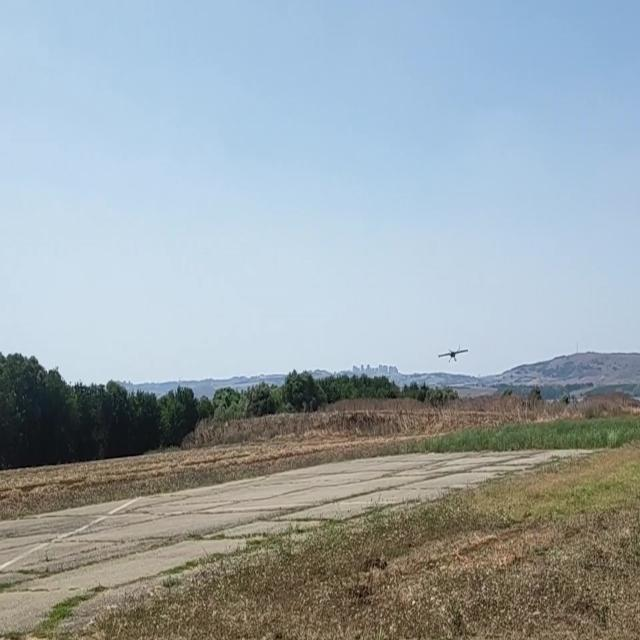iha: (433, 339, 471, 368)
